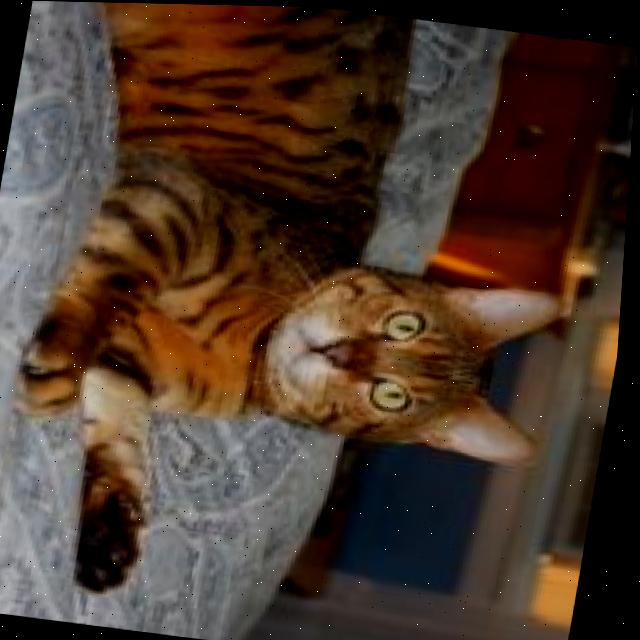Bengal: (0, 0, 619, 640)
